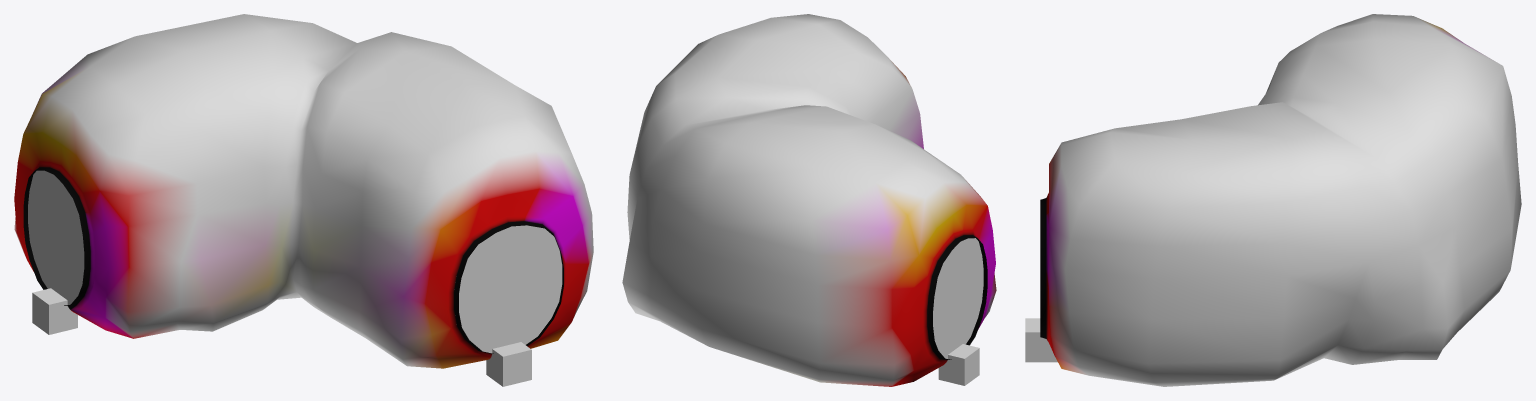
The model's file is CorridorCorner.fbx.
The picture shows the model from 3 angles, left to right: view 1: azimuth 30°, elevation 25°; view 2: azimuth 150°, elevation 25°; view 3: azimuth 270°, elevation 25°; orthographic projection. The views are drawn at different scales.
Parts seen in each view (by area): view 1: CorridorCorner_walls, CorridorCorner_Door2, CorridorCorner_Door1, CoridorCorner_DoorSnap2, CoridorCorner_DoorSnap1; view 2: CorridorCorner_walls, CorridorCorner_Door1, CoridorCorner_DoorSnap1; view 3: CorridorCorner_walls, CoridorCorner_DoorSnap2.
Boxes of the visible parts, x1=… form: CorridorCorner_walls: x1=14, y1=14, x2=593, y2=368; CorridorCorner_Door2: x1=459, y1=225, x2=562, y2=353; CorridorCorner_Door1: x1=28, y1=170, x2=84, y2=304; CoridorCorner_DoorSnap2: x1=486, y1=342, x2=531, y2=386; CoridorCorner_DoorSnap1: x1=32, y1=288, x2=77, y2=334; CorridorCorner_walls: x1=622, y1=14, x2=996, y2=386; CorridorCorner_Door1: x1=933, y1=238, x2=983, y2=358; CoridorCorner_DoorSnap1: x1=938, y1=344, x2=979, y2=385; CorridorCorner_walls: x1=1040, y1=14, x2=1521, y2=386; CoridorCorner_DoorSnap2: x1=1025, y1=318, x2=1057, y2=362.
Size of the model in its own units: 1469 by 799 by 1500.
